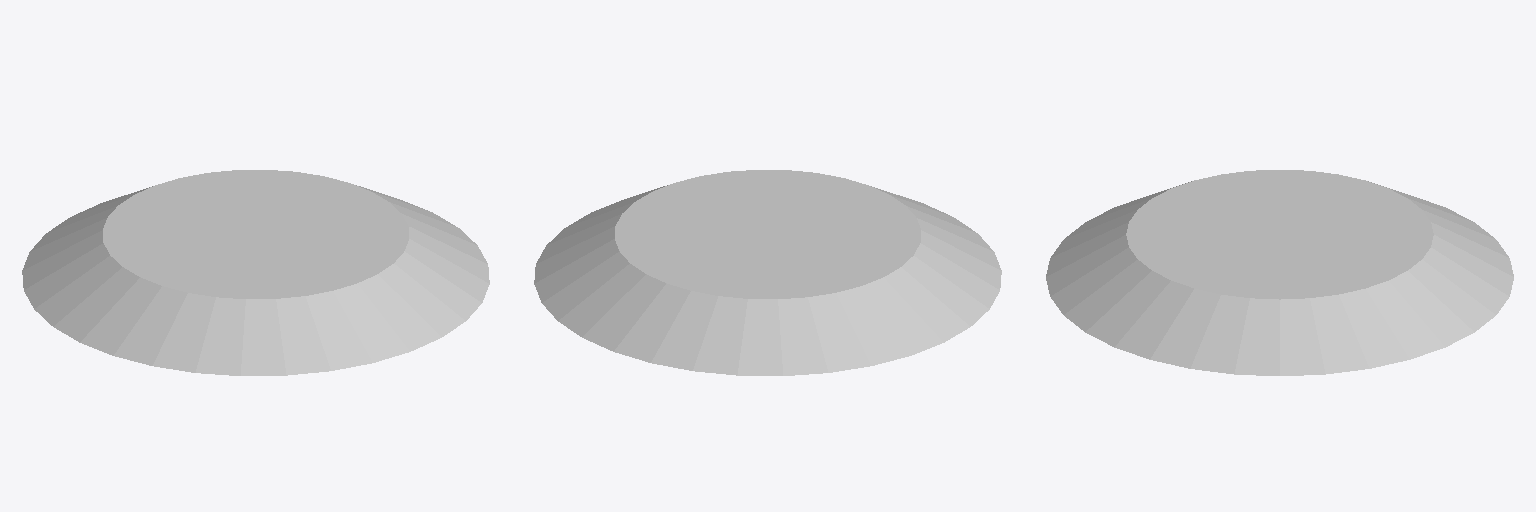
The model's file is buttonMeshCollider.obj.
3 views of the same model, side by side, from view 1: azimuth 30°, elevation 25°; view 2: azimuth 150°, elevation 25°; view 3: azimuth 270°, elevation 25° (orthographic).
Visible parts, largest first — view 1: Cylinder; view 2: Cylinder; view 3: Cylinder.
Part boxes in pixels (left/top/right/bottom): Cylinder: left=22, top=170, right=489, bottom=375; Cylinder: left=534, top=170, right=1001, bottom=375; Cylinder: left=1046, top=170, right=1513, bottom=375.
Bounding box in the file's own units: 4.32 × 0.4366 × 4.32.